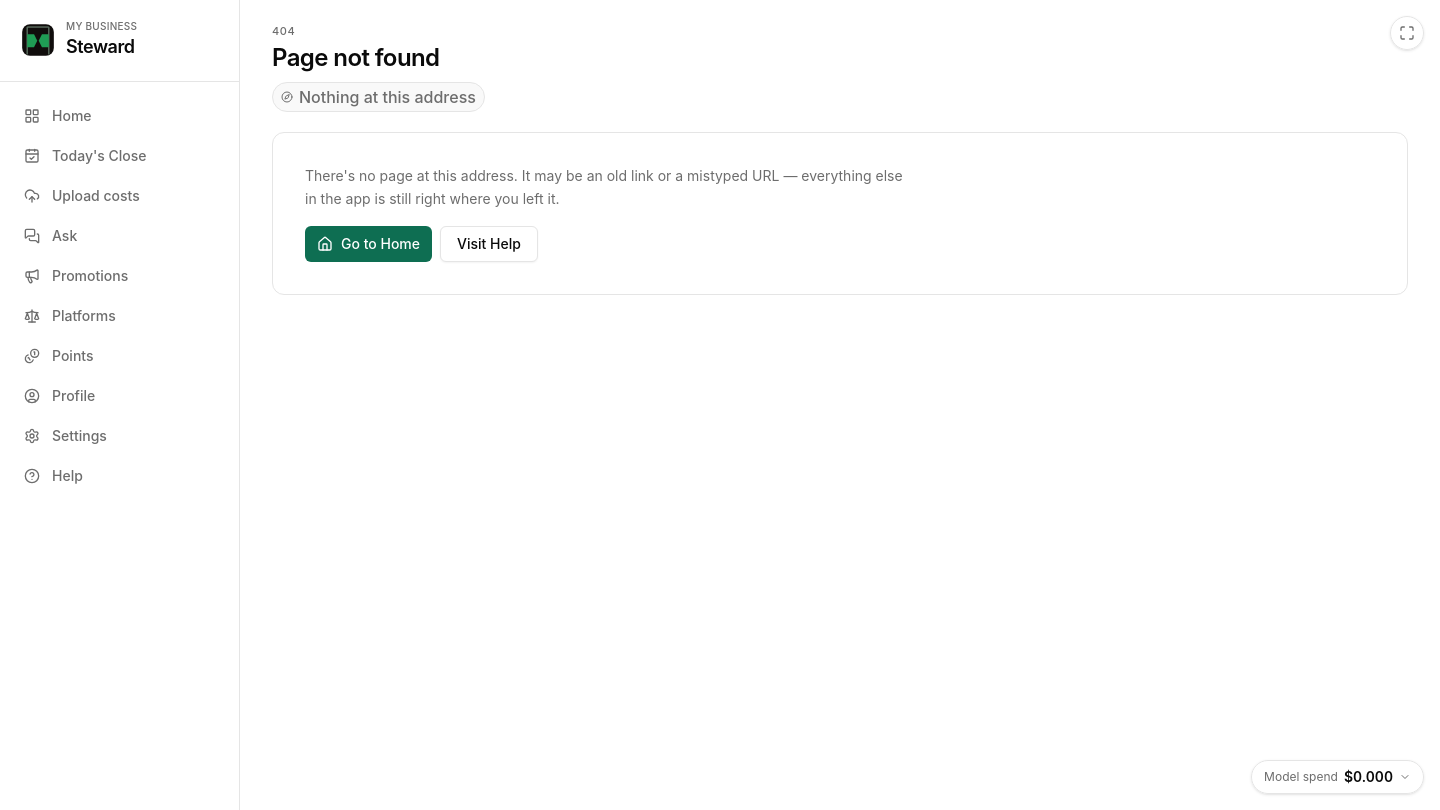
catch-all 404 route › lets the owner navigate to a real page from the 404 (Home link works)
The image size is (1440, 810).
Expected: the heading "Page not found" is shown, [272,43,440,72]
Click the link "Go to Home": coordinates (368, 244) [305,226,432,262]
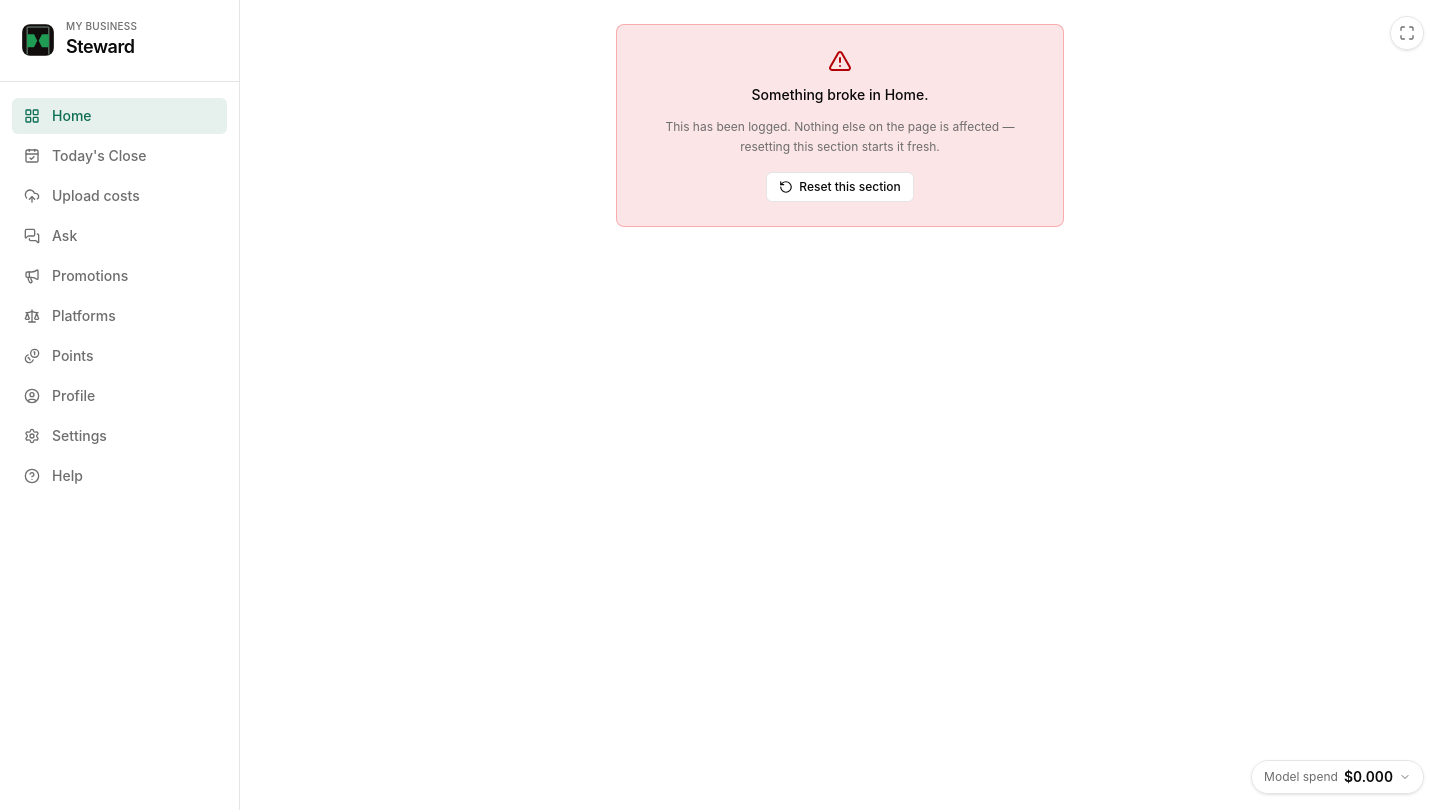
Now the heading "Page not found" is gone
